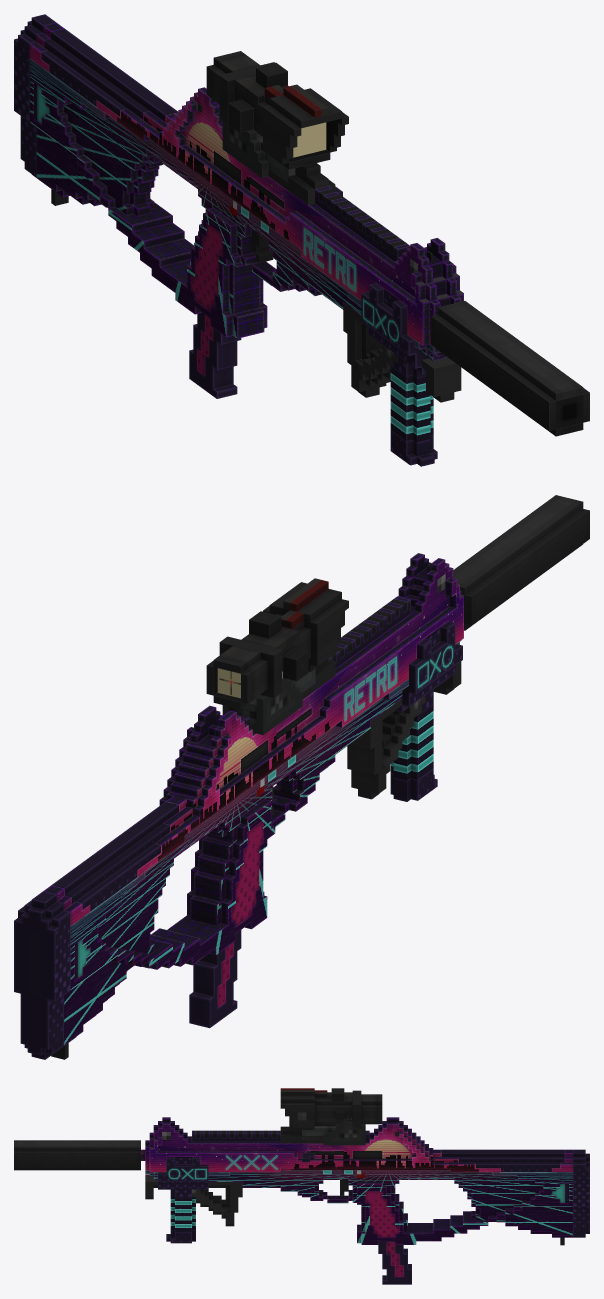
File: RD_BERETTA_MX4_RETRO.glb
The picture shows the model from 3 angles, top to bottom: view 1: azimuth 30°, elevation 25°; view 2: azimuth 150°, elevation 25°; view 3: azimuth 270°, elevation 25°; orthographic projection. The views are drawn at different scales.
Parts seen in each view (by area): view 1: BERETTA_MX4, SCOPE_ACOG, SILENCER_6X6, BERETTA_MX4_GRIP, GRIP3, BERETTA_MX4_CLIP, SCOPE_EOTECH; view 2: BERETTA_MX4, SCOPE_ACOG, SILENCER_6X6, BERETTA_MX4_GRIP, GRIP3, BERETTA_MX4_CLIP, SCOPE_EOTECH; view 3: BERETTA_MX4, SCOPE_ACOG, SILENCER_6X6, BERETTA_MX4_GRIP, GRIP3, BERETTA_MX4_CLIP, SCOPE_EOTECH.
Boxes of the visible parts, bbox=[...] form: BERETTA_MX4: bbox=[14, 14, 463, 360]; SCOPE_ACOG: bbox=[206, 51, 348, 204]; SILENCER_6X6: bbox=[431, 301, 589, 436]; BERETTA_MX4_GRIP: bbox=[361, 283, 437, 466]; GRIP3: bbox=[343, 302, 461, 402]; BERETTA_MX4_CLIP: bbox=[189, 312, 241, 398]; SCOPE_EOTECH: bbox=[222, 120, 295, 183]; BERETTA_MX4: bbox=[14, 553, 463, 1059]; SCOPE_ACOG: bbox=[206, 578, 348, 709]; SILENCER_6X6: bbox=[453, 495, 589, 630]; BERETTA_MX4_GRIP: bbox=[390, 621, 462, 801]; GRIP3: bbox=[347, 661, 461, 799]; BERETTA_MX4_CLIP: bbox=[189, 930, 241, 1028]; SCOPE_EOTECH: bbox=[222, 669, 315, 735]; BERETTA_MX4: bbox=[141, 1117, 589, 1245]; SCOPE_ACOG: bbox=[280, 1088, 382, 1143]; SILENCER_6X6: bbox=[14, 1140, 140, 1170]; BERETTA_MX4_GRIP: bbox=[158, 1157, 208, 1243]; GRIP3: bbox=[145, 1174, 242, 1226]; BERETTA_MX4_CLIP: bbox=[378, 1241, 411, 1284]; SCOPE_EOTECH: bbox=[302, 1118, 365, 1145].
Bounding box in the file's own units: 0.1083 × 0.492 × 1.34.
Materials: 7 (7 with a texture image).
